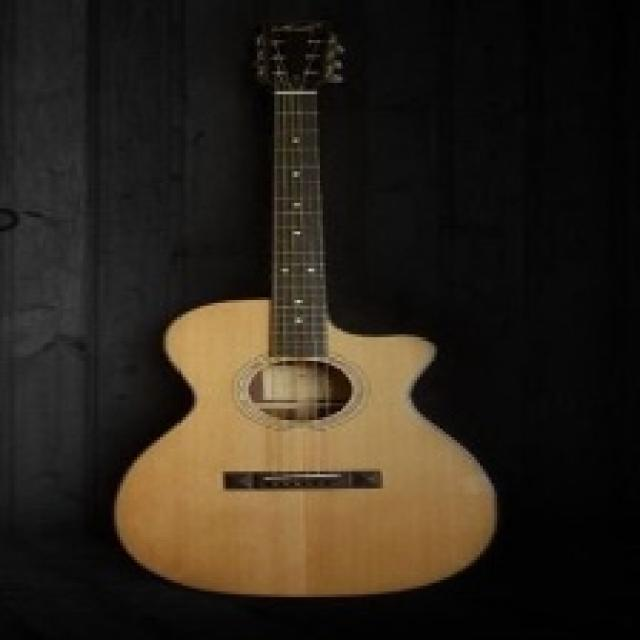acousticguitar: (115, 22, 495, 595)
